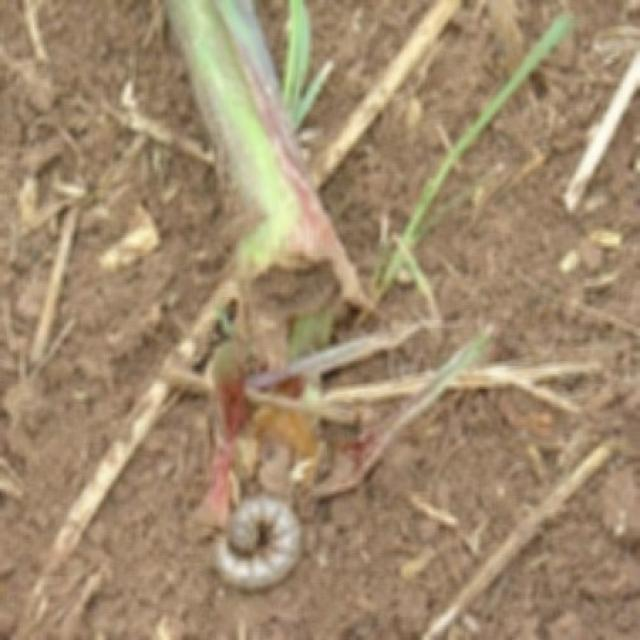black cutworm: (210, 497, 313, 592)
